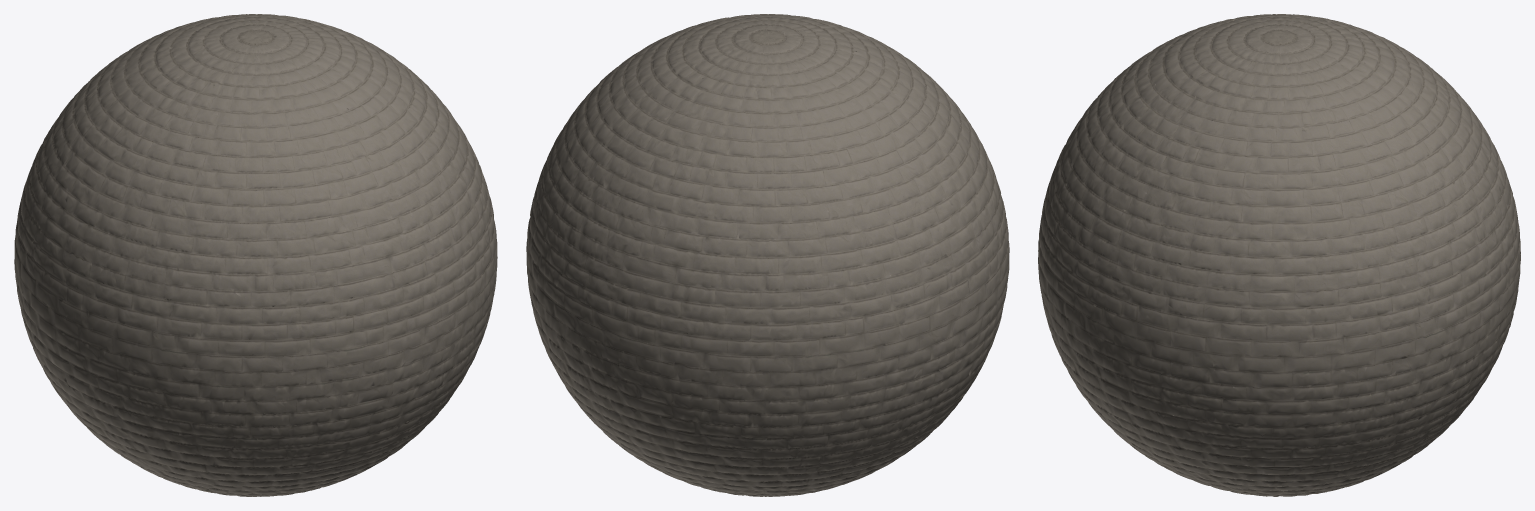
File: exterior_wall_cladding_1k.gltf
3 views of the same model, side by side, from view 1: azimuth 30°, elevation 25°; view 2: azimuth 150°, elevation 25°; view 3: azimuth 270°, elevation 25° (orthographic).
Parts seen in each view (by area): view 1: sphere_gltf; view 2: sphere_gltf; view 3: sphere_gltf.
Part boxes in pixels (x1,y1,x2,y2): sphere_gltf: (14, 14, 497, 496); sphere_gltf: (526, 14, 1009, 496); sphere_gltf: (1038, 14, 1520, 496).
Size of the model in its own units: 2.01 by 2.01 by 2.
Materials: 1 (1 with a texture image).
